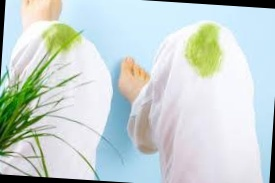earth: (184, 24, 222, 77), (46, 25, 75, 48)
